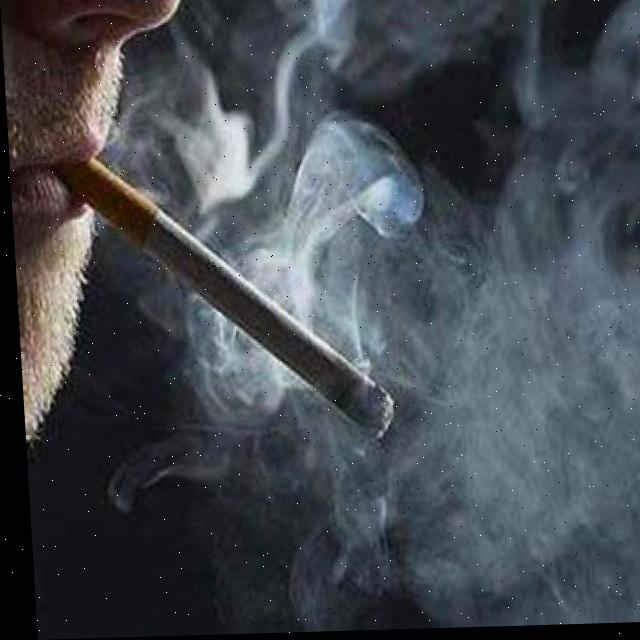cigarette: (62, 155, 388, 449)
